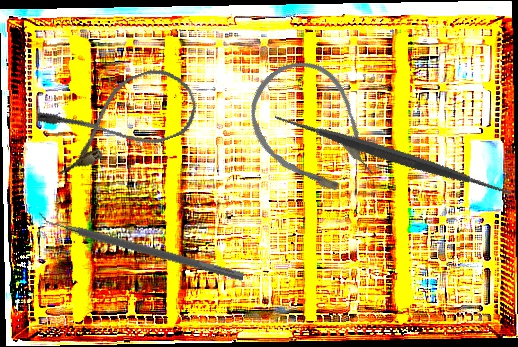Cannula: (230, 43, 396, 219), (34, 59, 205, 178)
Spatula Surgical: (270, 34, 516, 276), (35, 208, 247, 282)
